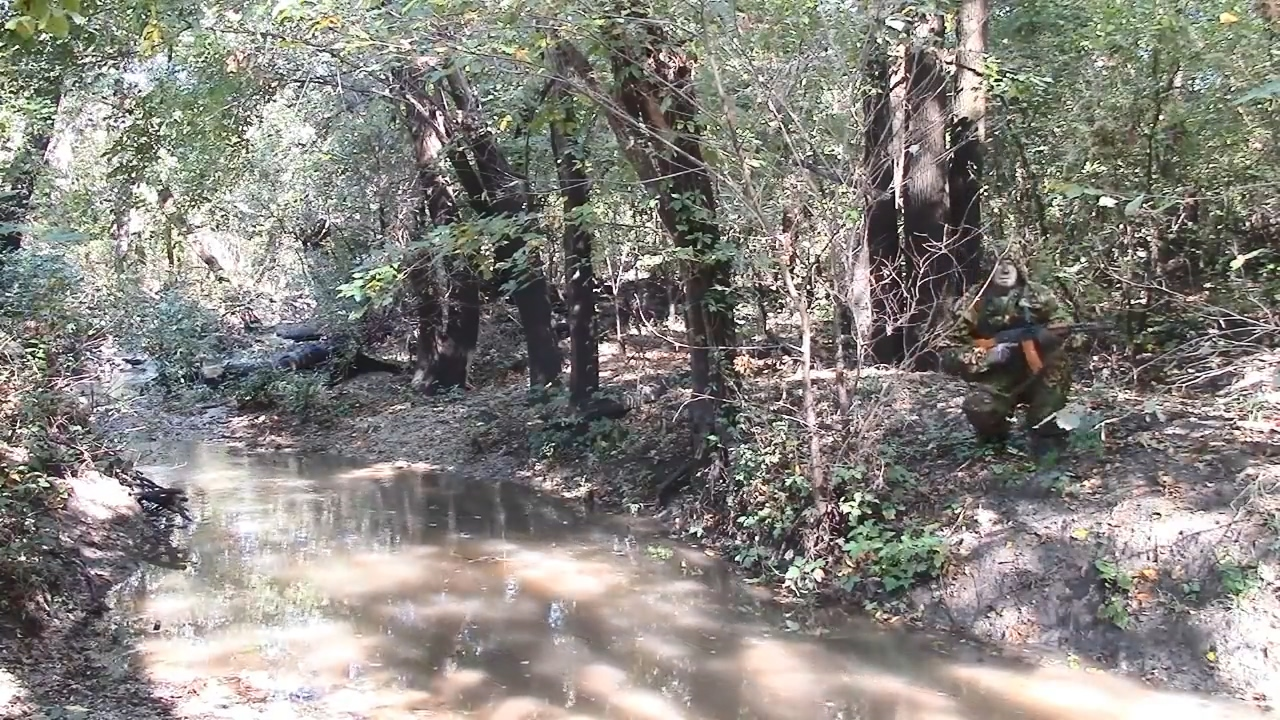person: (923, 230, 1104, 453)
